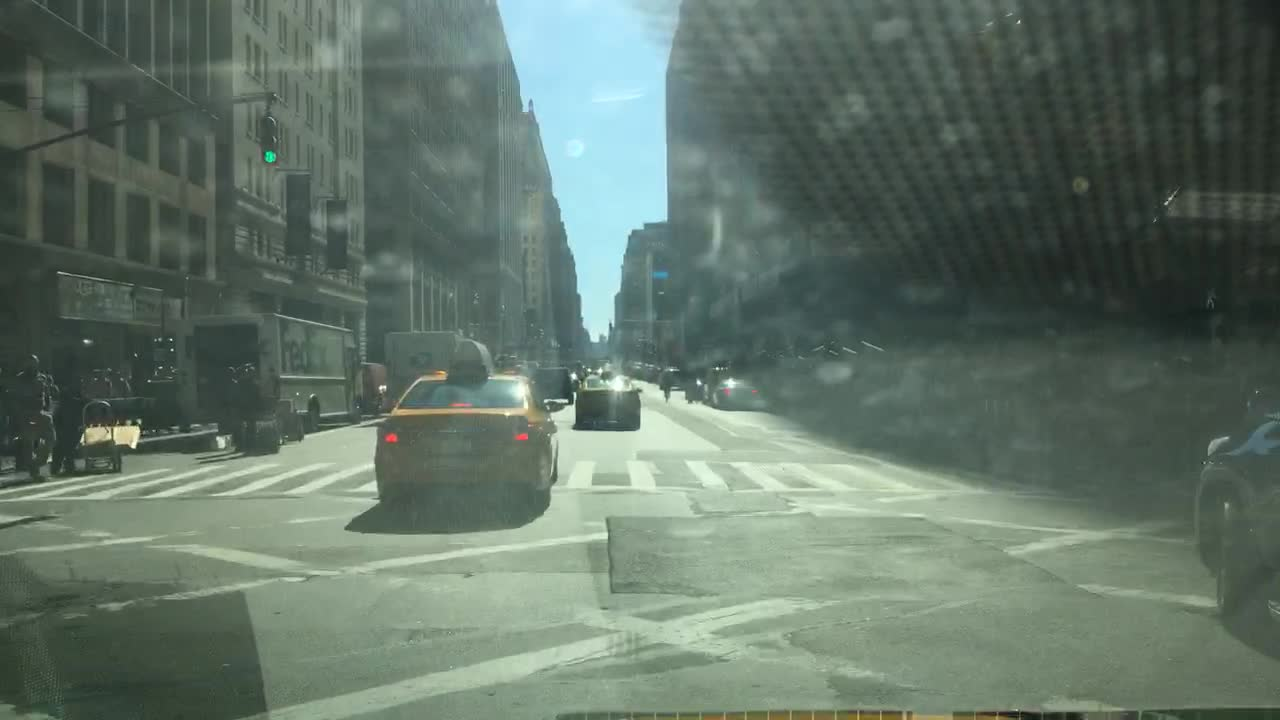bike: (662, 390, 672, 402)
car: (1192, 268, 1278, 644), (372, 365, 562, 523), (574, 372, 640, 431), (703, 372, 766, 406), (527, 362, 570, 404), (681, 374, 707, 397), (661, 364, 681, 383), (623, 358, 642, 372), (640, 361, 654, 377), (584, 363, 602, 374)
motor: (0, 415, 59, 480)
person: (242, 363, 258, 457), (227, 367, 241, 454), (108, 367, 137, 400), (86, 367, 113, 400), (574, 358, 584, 381)
rider: (4, 353, 53, 422), (656, 374, 674, 390)
traffic light: (258, 112, 277, 166)
truck: (180, 310, 363, 431), (380, 328, 497, 410)
